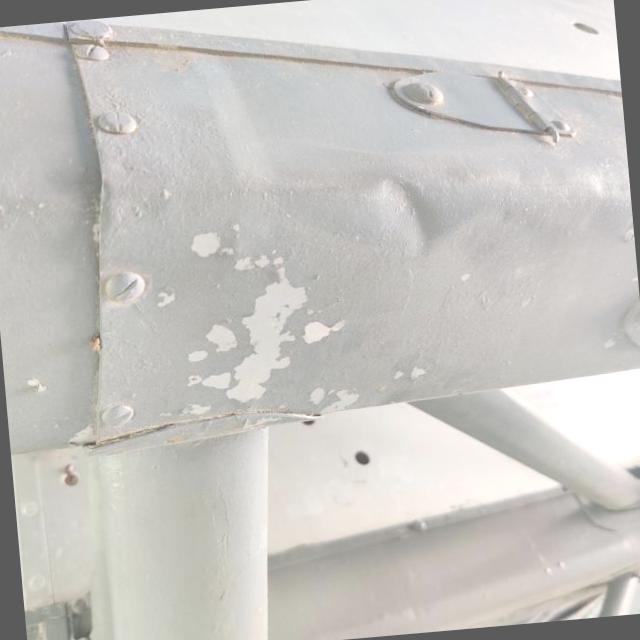dent: (362, 157, 458, 265)
paint-off: (138, 208, 373, 430)
